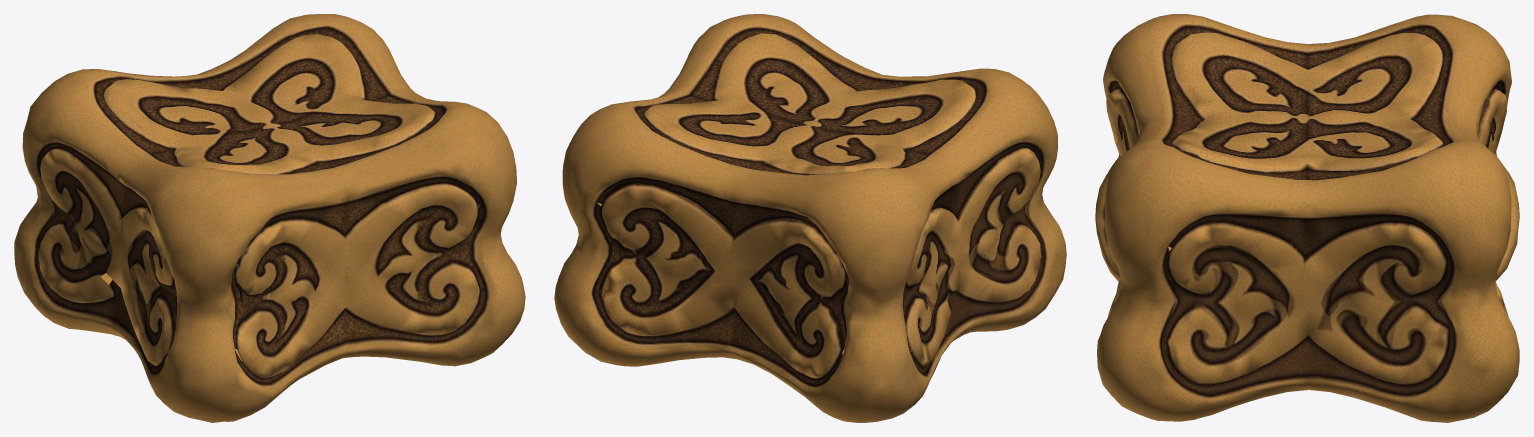
The model's file is Khan_quad_mobile.glb.
3 views of the same model, side by side, from view 1: azimuth 30°, elevation 25°; view 2: azimuth 150°, elevation 25°; view 3: azimuth 270°, elevation 25° (orthographic). The views are drawn at different scales.
Parts seen in each view (by area): view 1: Mesh_0; view 2: Mesh_0; view 3: Mesh_0.
Part boxes in pixels (x1,y1,x2,y2): Mesh_0: (14, 14, 525, 422); Mesh_0: (554, 14, 1066, 422); Mesh_0: (1095, 14, 1519, 422).
Bounding box in the file's own units: 0.059 × 0.04 × 0.058.
Materials: 1 (1 with a texture image).
